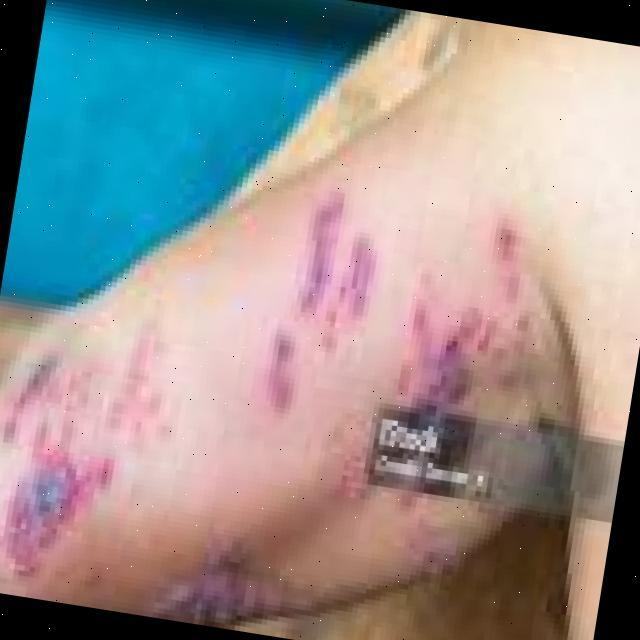Shingles: (0, 315, 164, 583), (396, 220, 539, 414), (266, 195, 378, 419), (159, 540, 322, 628)
